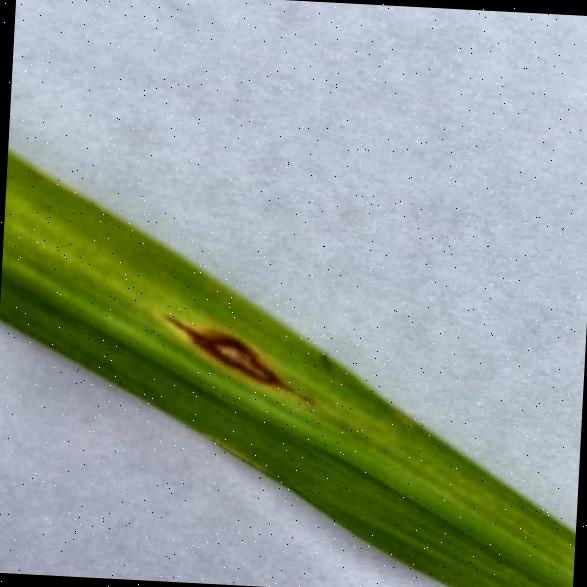Leaf_smut: (152, 308, 334, 431)
